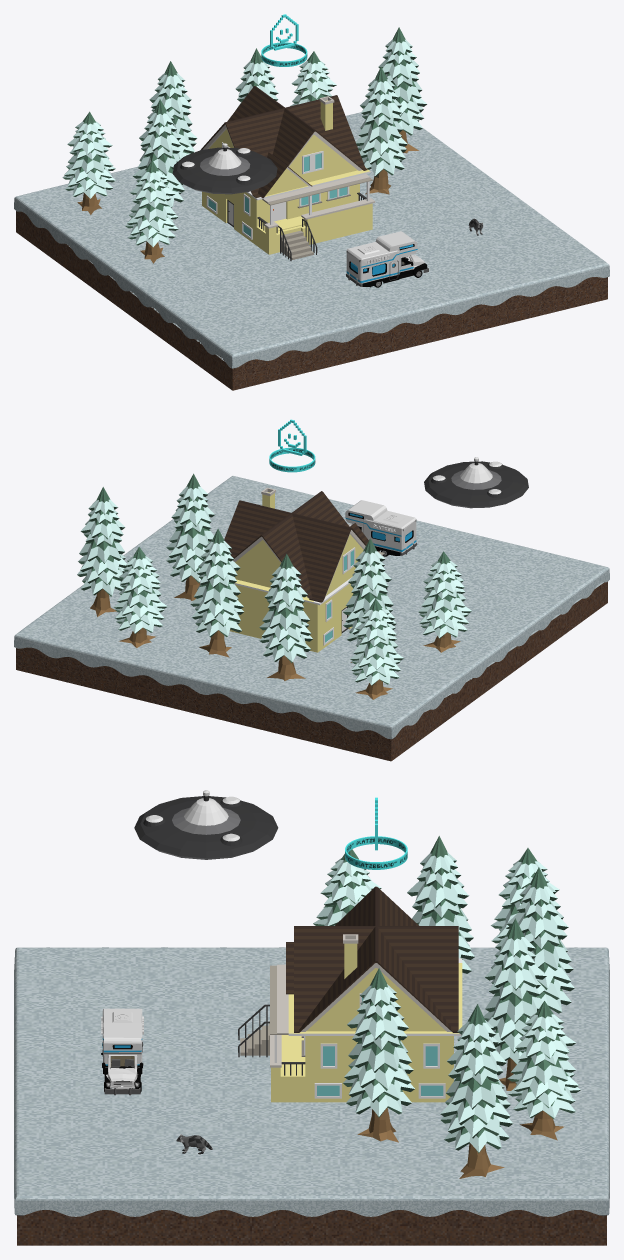
3 views of the same model, one above another, from view 1: azimuth 30°, elevation 25°; view 2: azimuth 150°, elevation 25°; view 3: azimuth 270°, elevation 25° (orthographic). The views are drawn at different scales.
Parts seen in each view (by area): view 1: Cube.003, Cube.1555, OBJRANDOM_UFO, VEHICLES_CAMPER, TYPE_PREMIUM; view 2: Cube.003, Cube.1555, OBJRANDOM_UFO, VEHICLES_CAMPER, TYPE_PREMIUM; view 3: Cube.003, Cube.1555, OBJRANDOM_UFO, VEHICLES_CAMPER, TYPE_PREMIUM.
Boxes of the visible parts, x1,y1,x2,y2 form: Cube.003: (14,27,609,390); Cube.1555: (194,86,375,261); OBJRANDOM_UFO: (172,143,277,194); VEHICLES_CAMPER: (346,231,428,287); TYPE_PREMIUM: (261,14,307,66); Cube.003: (14,473,609,761); Cube.1555: (224,487,387,652); OBJRANDOM_UFO: (424,457,528,508); VEHICLES_CAMPER: (345,500,417,556); TYPE_PREMIUM: (269,419,315,472); Cube.003: (14,836,609,1245); Cube.1555: (238,886,462,1102); OBJRANDOM_UFO: (134,790,278,859); VEHICLES_CAMPER: (101,1008,143,1095); TYPE_PREMIUM: (345,797,407,869).
Bounding box in the file's own units: 4040 × 2471 × 4040.
Materials: 34 (4 with a texture image).
